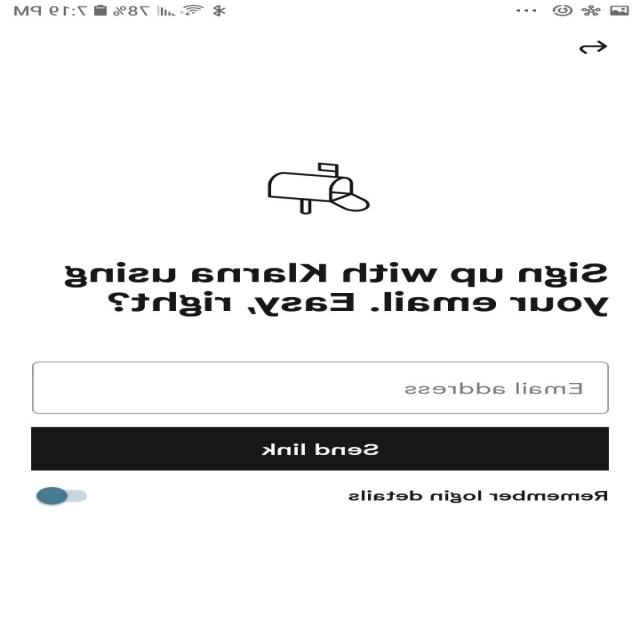EditText: (32, 361, 609, 414)
Icon: (578, 40, 608, 54)
Image: (268, 162, 370, 214)
Text: (65, 261, 610, 317), (348, 490, 608, 503), (406, 382, 584, 394)
TextButton: (31, 426, 609, 471)
